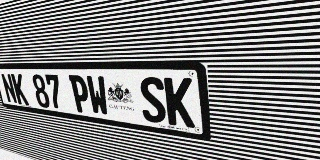7: (44, 74, 65, 110)
8: (31, 74, 51, 108)
K: (164, 77, 195, 128), (11, 74, 29, 105)
N: (0, 73, 18, 104)
P: (68, 75, 92, 114)
S: (138, 77, 167, 124)
W: (85, 75, 110, 116)
